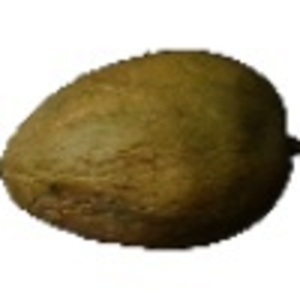mamão: (2, 34, 292, 258)
